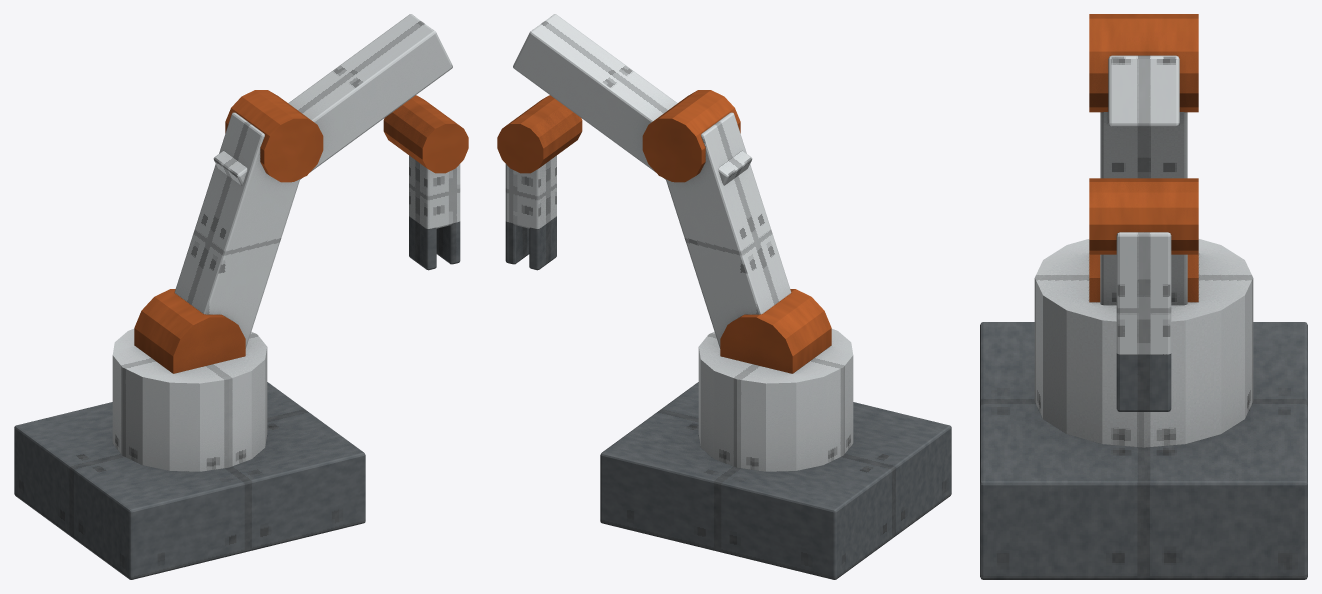
The model's file is base_robot_arm.glb.
3 views of the same model, side by side, from view 1: azimuth 30°, elevation 25°; view 2: azimuth 150°, elevation 25°; view 3: azimuth 270°, elevation 25° (orthographic). The views are drawn at different scales.
Parts seen in each view (by area): view 1: base_robot_arm; view 2: base_robot_arm; view 3: base_robot_arm.
Boxes of the visible parts, x1,y1,x2,y2 form: base_robot_arm: [14, 14, 468, 579]; base_robot_arm: [497, 14, 951, 579]; base_robot_arm: [980, 14, 1307, 579].
Bounding box in the file's own units: 2.25 × 2.44 × 1.2.
Materials: 3 (3 with a texture image).
